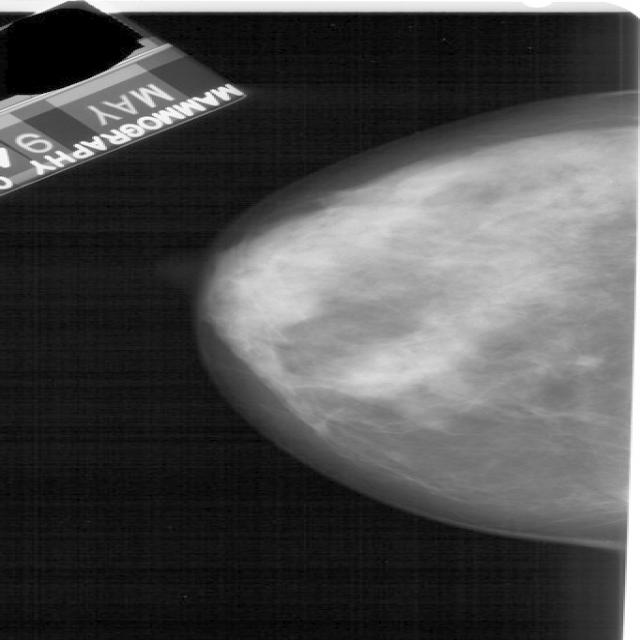tumour: (568, 353, 602, 366)
